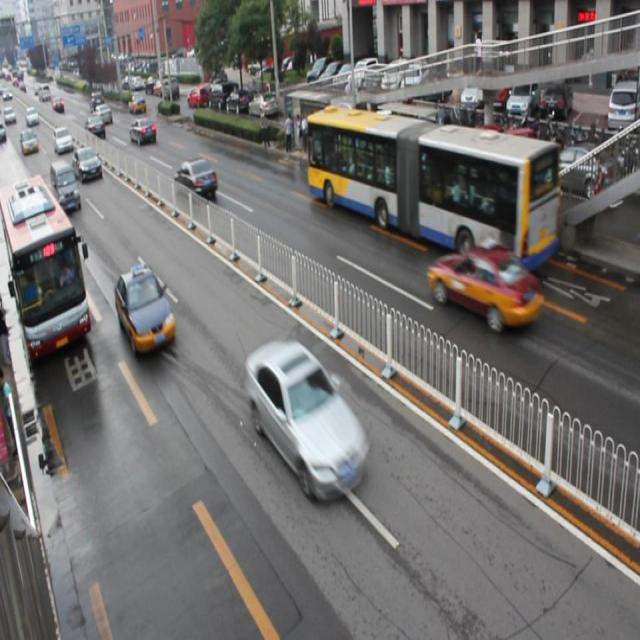car: (243, 338, 370, 502), (428, 242, 542, 334), (114, 263, 177, 356), (173, 158, 216, 198), (73, 146, 103, 180), (130, 119, 156, 146)
truck: (50, 159, 82, 213)
van: (306, 104, 559, 273), (0, 178, 90, 358)
